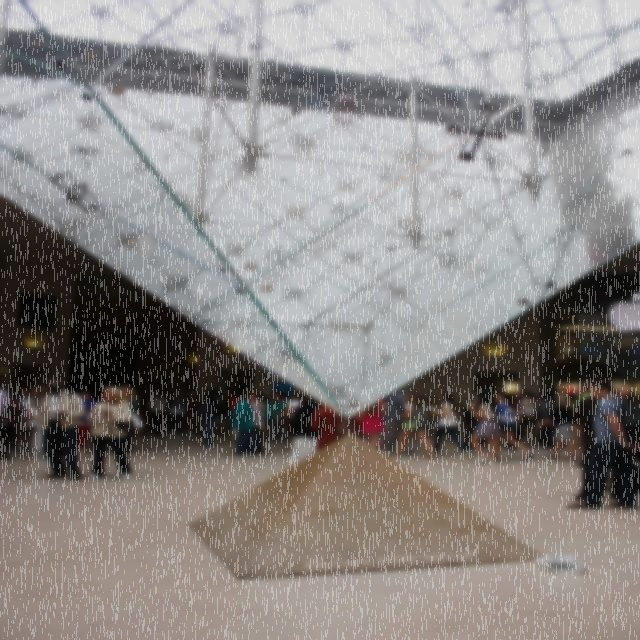pessoa: (565, 378, 640, 509), (17, 379, 87, 481), (572, 378, 622, 501), (86, 386, 134, 479), (487, 392, 535, 462), (386, 392, 436, 459), (534, 391, 580, 461), (425, 391, 471, 457), (34, 381, 70, 458), (290, 396, 326, 466), (312, 406, 364, 452), (466, 395, 500, 464), (231, 392, 265, 458), (380, 388, 414, 454), (571, 395, 599, 467), (238, 390, 268, 454), (8, 386, 34, 452), (195, 388, 223, 448), (22, 386, 46, 454), (356, 400, 388, 450), (122, 387, 144, 454), (462, 394, 486, 451), (262, 392, 288, 444), (538, 391, 561, 449), (76, 391, 97, 454), (164, 389, 187, 438), (274, 390, 309, 422), (146, 391, 170, 436), (0, 380, 11, 460), (205, 401, 229, 437), (519, 391, 535, 439), (181, 392, 197, 434), (504, 392, 546, 408), (228, 391, 242, 429), (4, 389, 18, 426), (612, 386, 640, 404), (136, 392, 148, 429), (562, 386, 578, 402), (281, 390, 294, 404), (194, 417, 206, 432), (223, 397, 230, 422), (379, 419, 386, 444), (262, 421, 270, 441), (278, 429, 292, 440), (488, 394, 496, 406), (255, 392, 265, 401), (119, 383, 128, 392), (537, 393, 546, 402), (378, 398, 388, 405), (14, 392, 22, 400), (551, 391, 557, 401), (199, 394, 208, 400), (244, 390, 254, 392)
